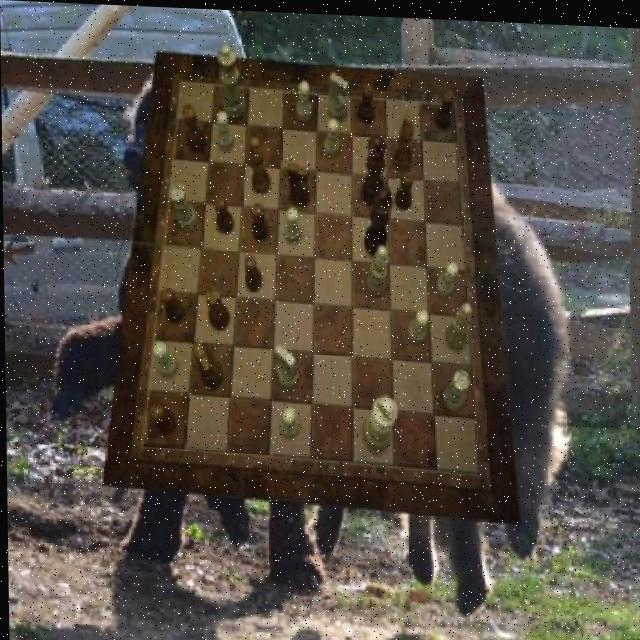bishop: (393, 109, 415, 168), (249, 133, 270, 192)
black-bishop: (363, 180, 394, 254)
black-king: (195, 340, 223, 387), (287, 160, 310, 205)
black-knight: (160, 285, 184, 322), (149, 402, 175, 435), (435, 86, 455, 127), (213, 195, 234, 232), (243, 252, 262, 290), (251, 199, 269, 239), (396, 169, 413, 207), (358, 80, 374, 120)
black-pawn: (361, 130, 388, 204)
black-queen: (183, 102, 206, 152), (205, 284, 230, 327)
black-rook: (445, 299, 472, 347), (364, 240, 387, 294)
white-bishop: (363, 391, 398, 448)
white-king: (274, 343, 299, 388), (328, 70, 349, 118)
white-knight: (435, 257, 459, 295), (151, 341, 176, 377), (406, 305, 429, 340), (285, 205, 303, 242), (217, 111, 233, 151), (296, 78, 312, 118), (279, 403, 298, 436), (322, 116, 338, 155)
white-pawn: (218, 41, 246, 117)
white-queen: (170, 183, 197, 230), (441, 366, 469, 408)
